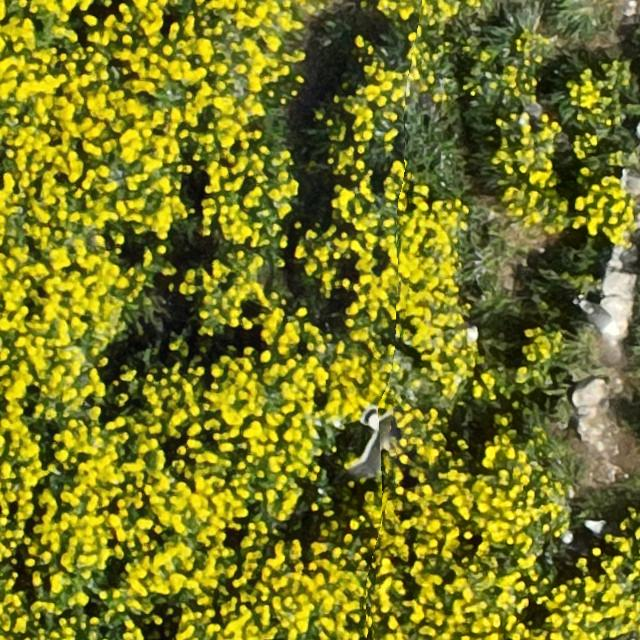umineko: (576, 289, 628, 340), (620, 173, 640, 199), (582, 518, 606, 534)
